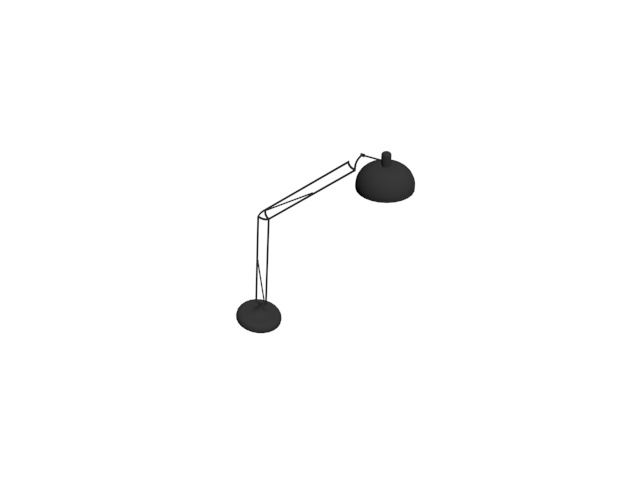desk_lamp: (233, 145, 416, 336)
